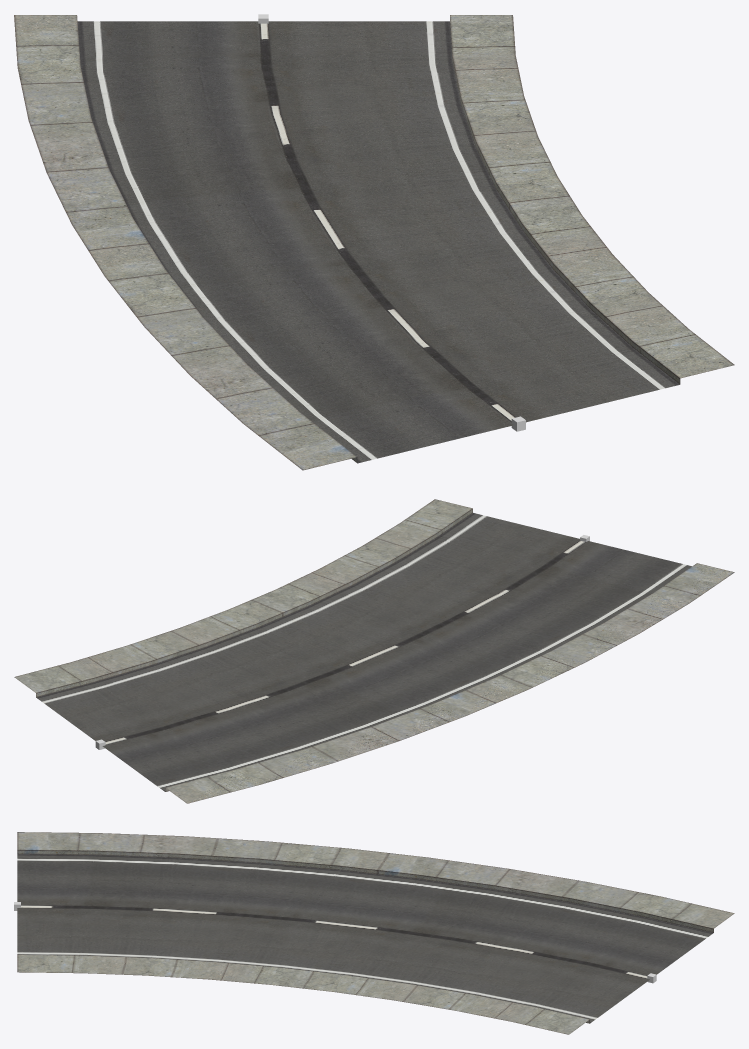
File: roadBend30.R.fbx
3 views of the same model, one above another, from view 1: azimuth 30°, elevation 25°; view 2: azimuth 150°, elevation 25°; view 3: azimuth 270°, elevation 25° (orthographic). The views are drawn at different scales.
Parts seen in each view (by area): view 1: MESH roadBend30.R; view 2: MESH roadBend30.R; view 3: MESH roadBend30.R.
Boxes of the visible parts, bbox=[...] form: MESH roadBend30.R: bbox=[14, 15, 734, 470]; MESH roadBend30.R: bbox=[14, 499, 734, 803]; MESH roadBend30.R: bbox=[17, 832, 734, 1034].
Size of what is drawn, in the model's own units: 3467 by 58.34 by 5209.
